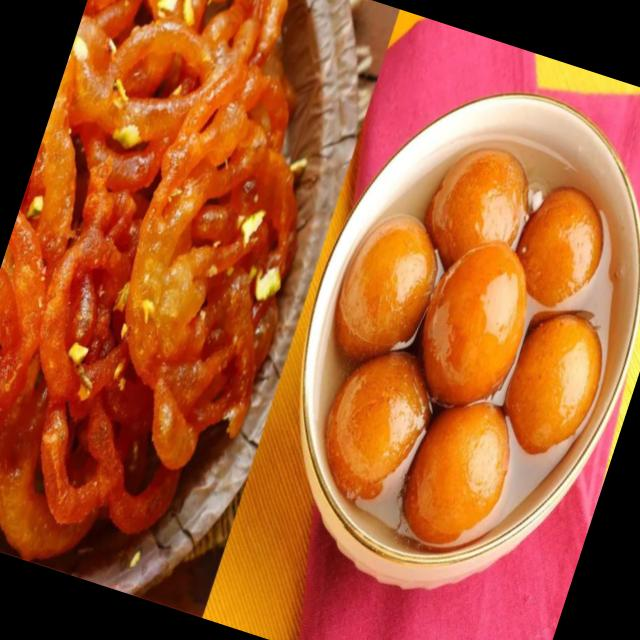jalebi: (0, 0, 353, 594)
